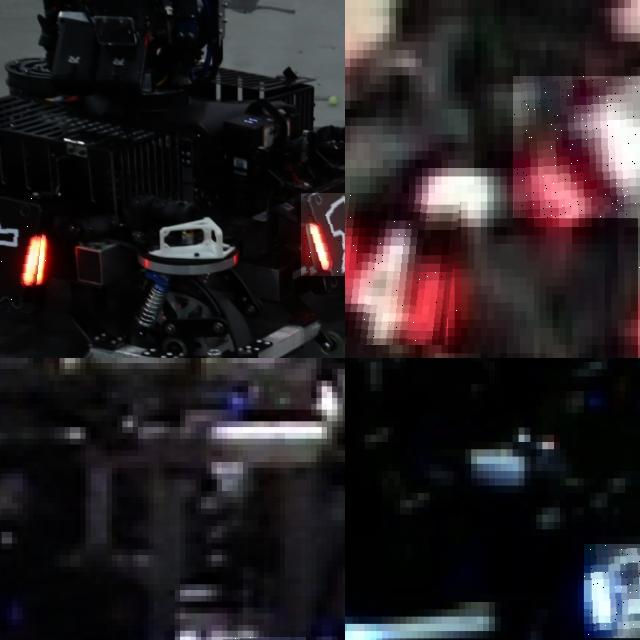Bs: (583, 543, 640, 638)
R4: (513, 75, 640, 218), (345, 193, 461, 344)
Rs: (0, 196, 46, 304), (301, 193, 345, 276)
